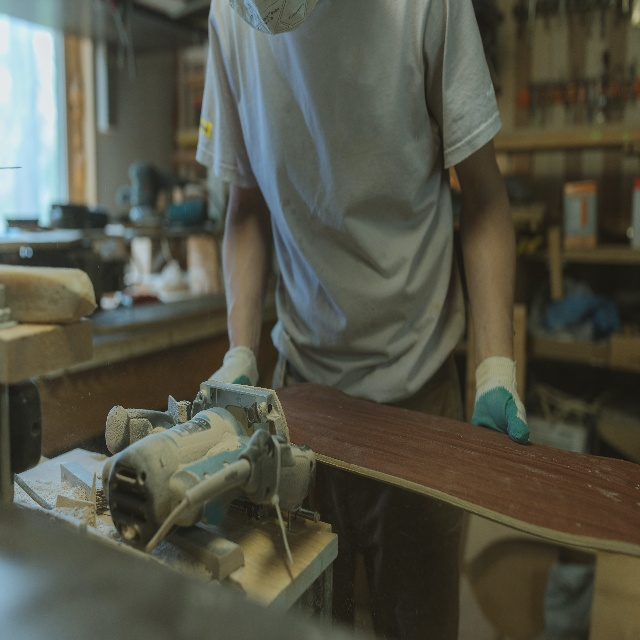Guantes: (472, 350, 530, 445), (210, 343, 260, 389)
